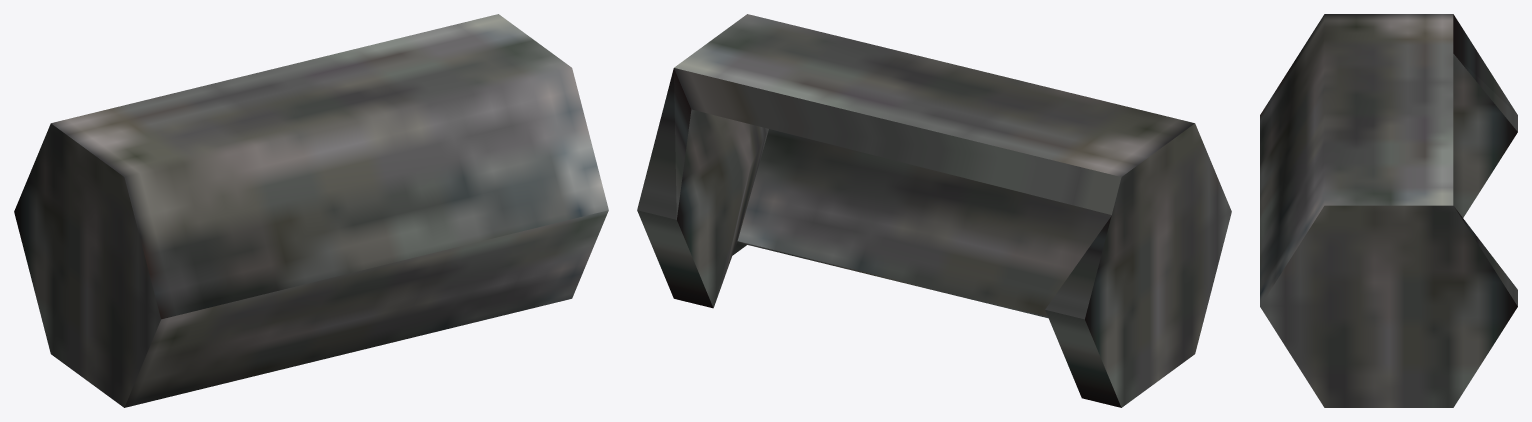
The model's file is Shared - Armor - Tanker Truck - Damage State 10 - CVTanker_d10.glb.
The picture shows the model from 3 angles, left to right: view 1: azimuth 30°, elevation 25°; view 2: azimuth 150°, elevation 25°; view 3: azimuth 270°, elevation 25°; orthographic projection. The views are drawn at different scales.
Parts seen in each view (by area): view 1: CVTANKER_D10; view 2: CVTANKER_D10; view 3: CVTANKER_D10.
Boxes of the visible parts, box(x1,y1,x2,y2) form: CVTANKER_D10: box(14, 14, 608, 407); CVTANKER_D10: box(637, 14, 1231, 407); CVTANKER_D10: box(1260, 14, 1517, 407).
Bounding box in the file's own units: 6.12 × 3.01 × 3.48.
1 material, 1 textured.
